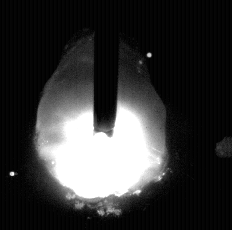arame: (95, 0, 118, 137)
poca: (34, 0, 166, 230)
